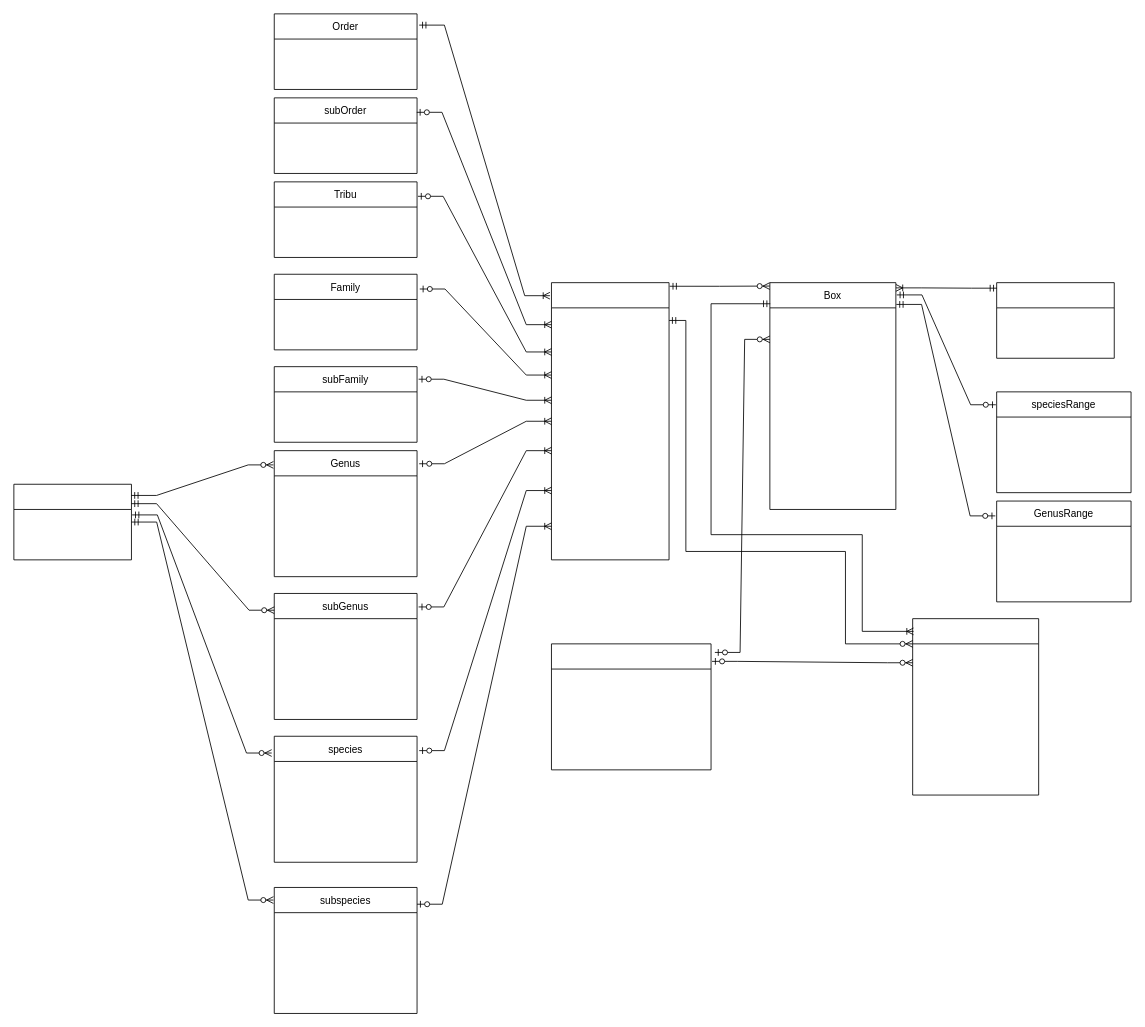
Image size: 1145x1027. Some labels were removed from this diagram. The centre of each missing label's shape, as x and y in pixels:
"Collection" belongs at [1055,320].
"individu" belongs at [975,706].
"loaner" belongs at [631,706].
"Population" belongs at [610,421].
"Scientific" belongs at [72,521].
